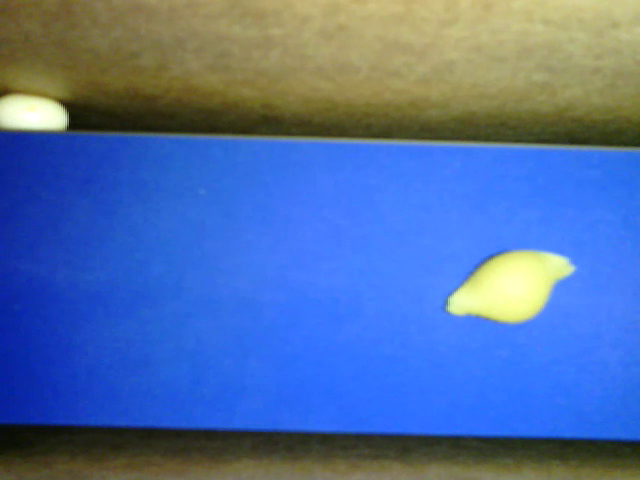shell: (446, 248, 575, 324)
